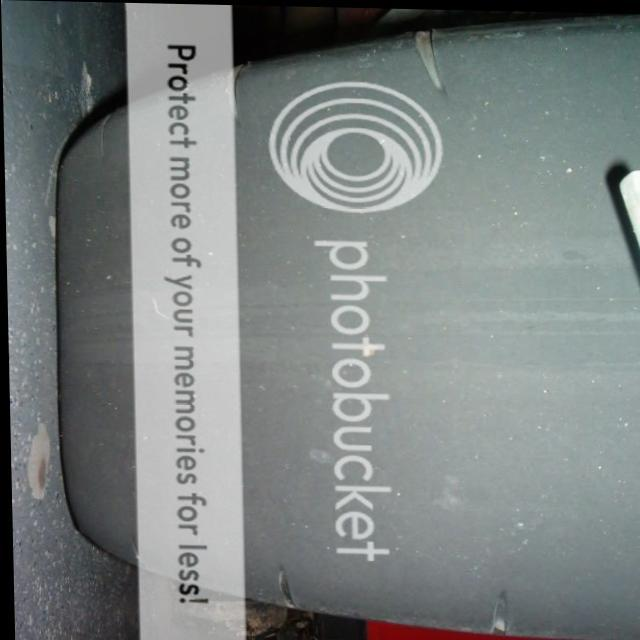Flat spots: (442, 14, 639, 639)
